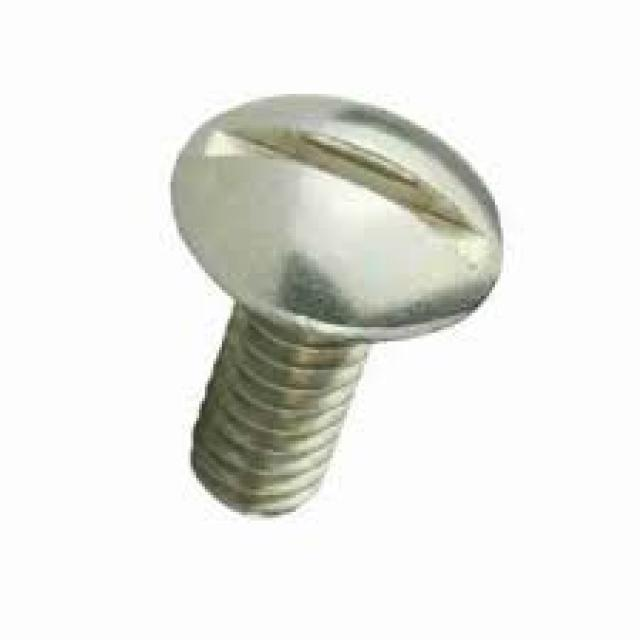Screw: (174, 94, 503, 521)
